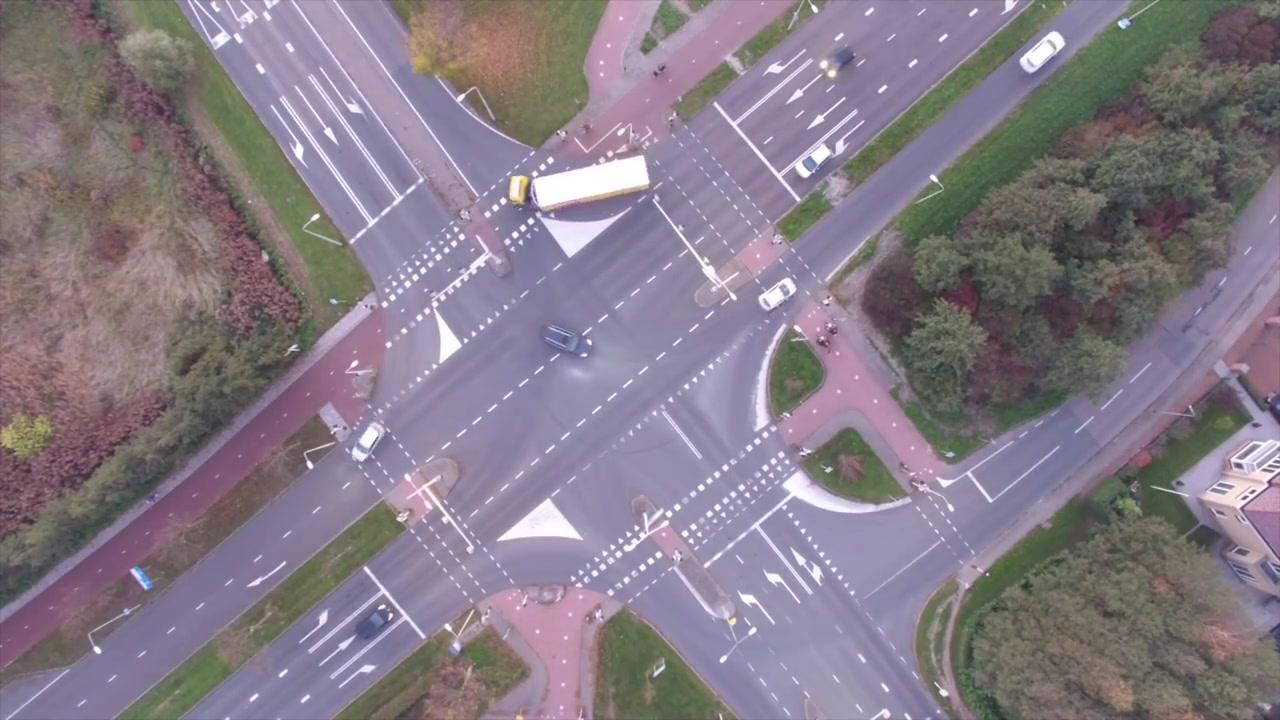car: (538, 319, 593, 358), (1019, 30, 1065, 76), (756, 274, 797, 311), (354, 603, 393, 641), (794, 142, 832, 179), (351, 421, 385, 462), (822, 44, 856, 77)
